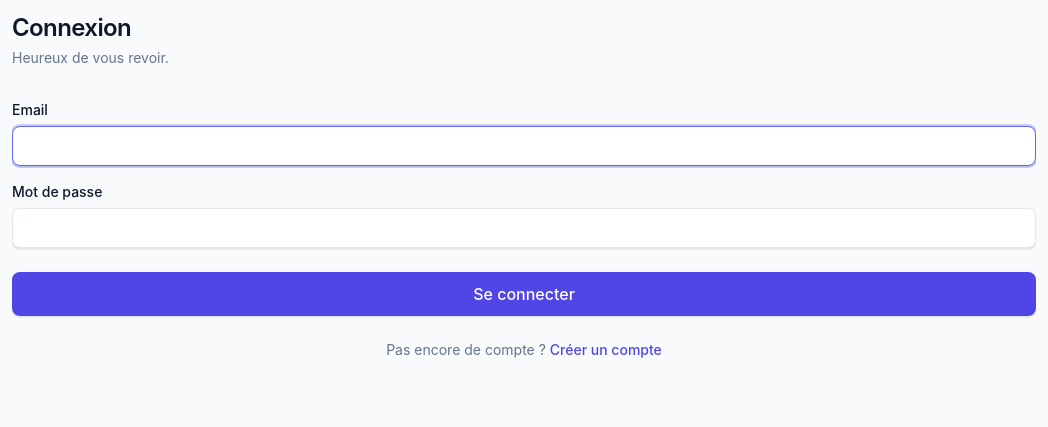
LoginPage › valide les champs avant envoi
This screenshot has width=1048, height=427.
What coordinates should you click on to do the following:
click the button "Se connecter"
I would click on:
 (524, 294)
Its box is left=12, top=272, right=1036, bottom=316.
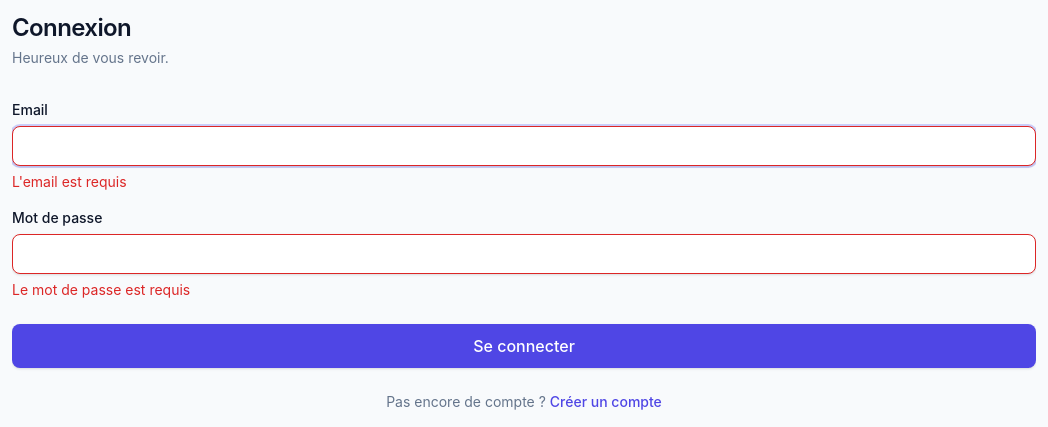
expect the text "L'email est requis" is shown: met, box left=12, top=173, right=126, bottom=190
expect the text "Le mot de passe est requis" is shown: met, box left=12, top=281, right=190, bottom=298
